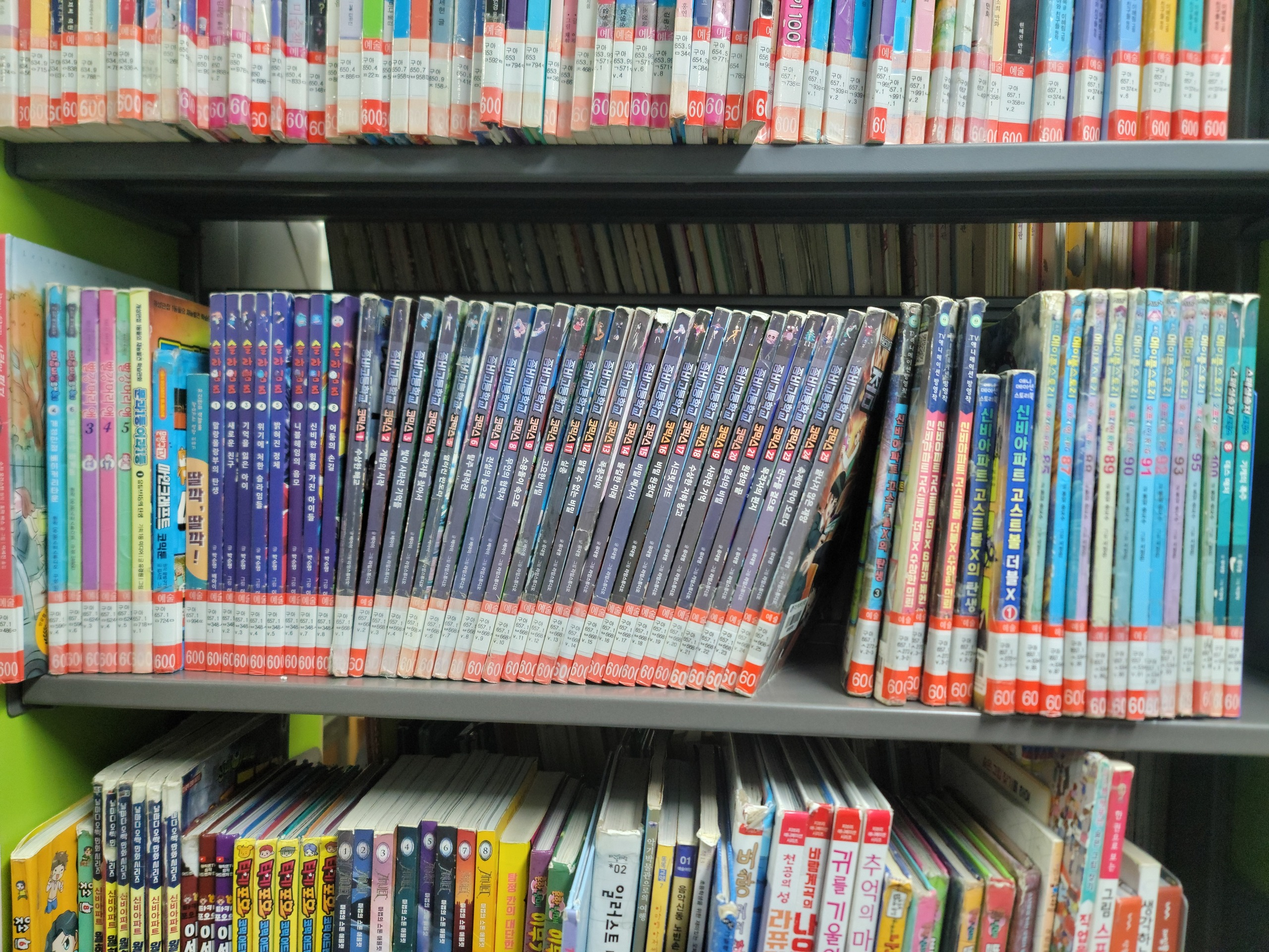book-spine: (733, 307, 886, 698), (715, 308, 865, 694), (681, 311, 826, 693), (699, 314, 843, 694), (665, 313, 806, 692), (649, 313, 786, 692), (633, 313, 768, 691), (584, 305, 717, 688), (616, 309, 749, 690), (599, 307, 730, 689), (564, 307, 695, 687), (550, 307, 674, 687), (532, 308, 653, 686), (516, 305, 634, 685), (501, 308, 614, 682), (482, 307, 593, 685), (463, 304, 573, 684), (447, 304, 554, 682), (431, 303, 534, 681), (413, 305, 513, 678), (395, 297, 488, 678), (379, 297, 462, 676), (846, 305, 922, 700), (362, 297, 439, 676), (884, 302, 954, 705), (347, 298, 412, 676), (926, 298, 985, 706), (328, 293, 381, 676), (1017, 288, 1064, 715), (903, 320, 955, 703), (1060, 290, 1106, 719), (1040, 289, 1084, 718), (1104, 283, 1147, 719), (1085, 286, 1128, 714), (948, 376, 1001, 706), (1157, 287, 1197, 717), (989, 370, 1037, 713), (1125, 287, 1163, 720), (1174, 287, 1211, 719), (1222, 290, 1259, 718), (1143, 290, 1180, 716), (1209, 293, 1244, 719), (1195, 291, 1228, 716), (313, 295, 347, 674), (296, 294, 326, 678), (281, 293, 309, 677), (247, 290, 271, 676), (264, 290, 288, 676), (232, 292, 256, 675), (151, 345, 176, 672), (45, 288, 66, 674), (0, 237, 18, 681), (131, 294, 152, 673), (220, 296, 240, 673), (206, 295, 225, 673), (185, 375, 208, 670), (81, 289, 98, 673), (100, 292, 116, 673), (116, 291, 132, 672), (66, 287, 81, 674)
